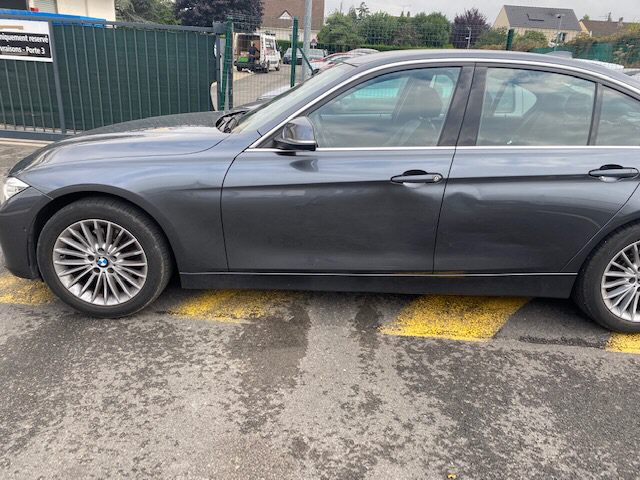front door: (204, 47, 486, 310)
